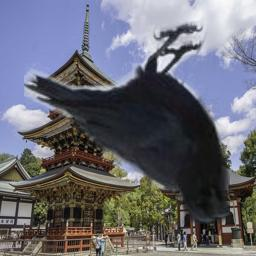Crow: (24, 21, 230, 224)
